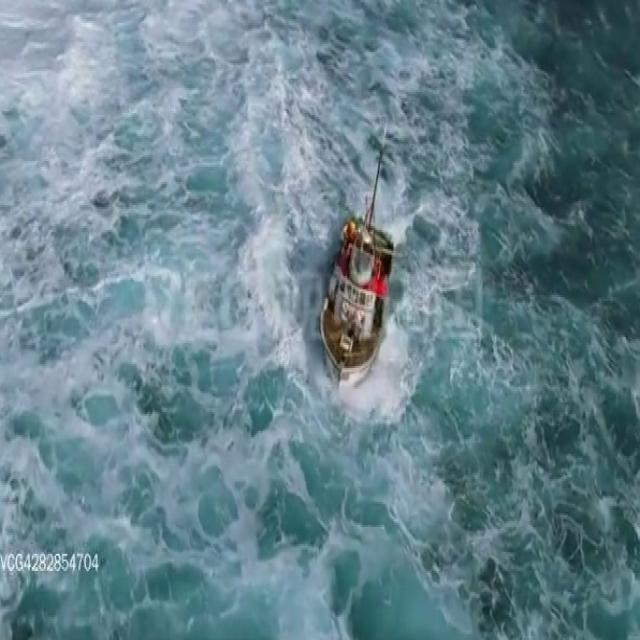houseboat: (322, 183, 396, 374)
